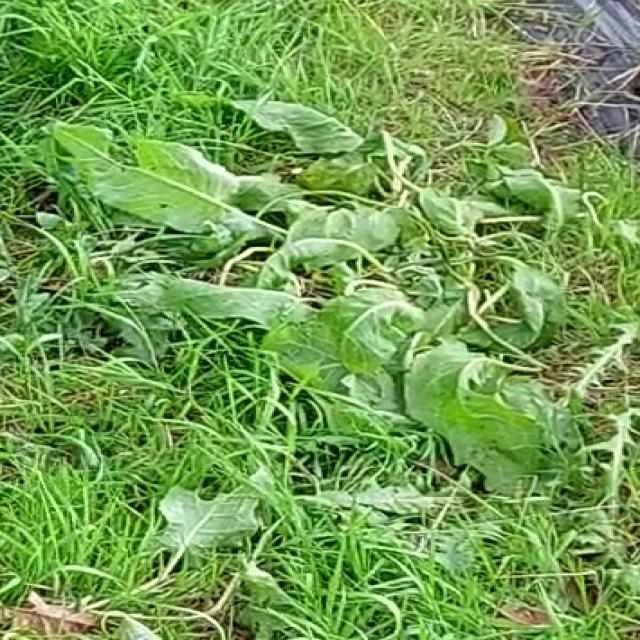organic waste: (126, 241, 606, 529), (86, 100, 614, 329)
